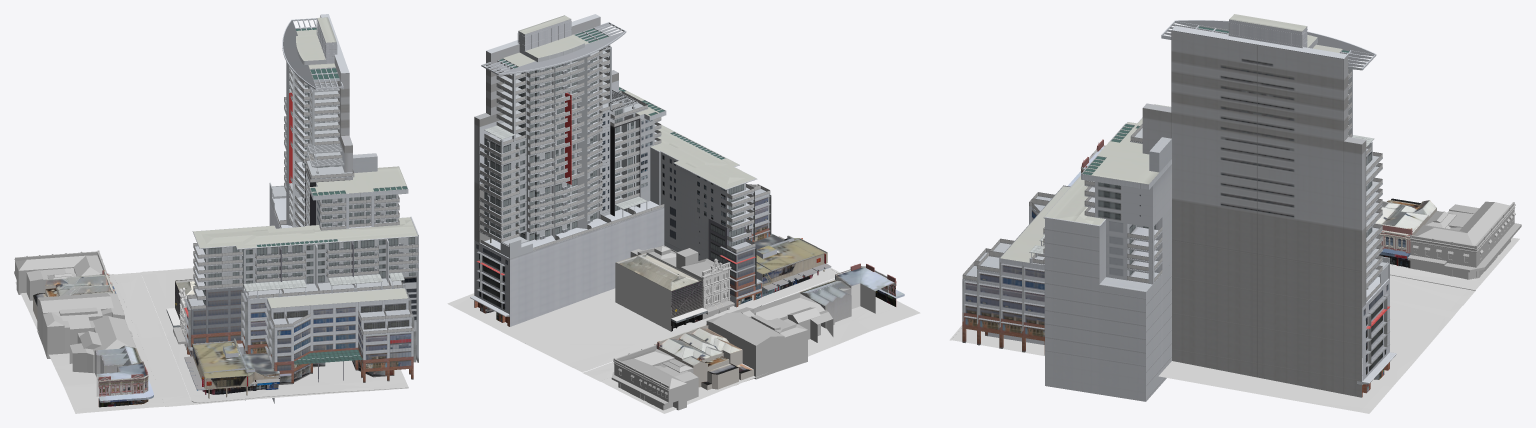
Rendered from City_Nick2.fbx.
3 renders of one model, left to right at view 1: azimuth 30°, elevation 25°; view 2: azimuth 150°, elevation 25°; view 3: azimuth 270°, elevation 25°, orthographic. The views are drawn at different scales.
Visible parts, largest first — view 1: C15_580_Hay_St_EQUUS, DGM.002, C14_77_85_Barrack_St, C15_604_Hay_St_CinemaCity, C14_95_99_Barrack_St, C14_612_Hay_St_Mall_QuinlanSwan, C14_87_93_Barrack_St, C14_69_75_Barrack_St, C15_86_90_Barrack_St, C15_78_84_Barrack_BonMarche; view 2: C15_580_Hay_St_EQUUS, DGM.002, C14_77_85_Barrack_St, C15_86_90_Barrack_St, C14_95_99_Barrack_St, C14_87_93_Barrack_St, C15_604_Hay_St_CinemaCity, C15_78_84_Barrack_BonMarche, C14_612_Hay_St_Mall_QuinlanSwan, C14_69_75_Barrack_St; view 3: C15_580_Hay_St_EQUUS, DGM.002, C14_95_99_Barrack_St, C14_87_93_Barrack_St.
Boxes of the visible parts, <box> form: C15_580_Hay_St_EQUUS: <box>184,14,418,403</box>; DGM.002: <box>15,268,408,413</box>; C14_77_85_Barrack_St: <box>37,293,141,373</box>; C15_604_Hay_St_CinemaCity: <box>184,338,280,400</box>; C14_95_99_Barrack_St: <box>14,250,107,300</box>; C14_612_Hay_St_Mall_QuinlanSwan: <box>96,361,153,407</box>; C14_87_93_Barrack_St: <box>33,270,123,320</box>; C14_69_75_Barrack_St: <box>94,345,141,376</box>; C15_86_90_Barrack_St: <box>166,279,195,327</box>; C15_78_84_Barrack_BonMarche: <box>173,287,194,350</box>; C15_580_Hay_St_EQUUS: <box>470,14,771,326</box>; DGM.002: <box>447,267,920,413</box>; C14_77_85_Barrack_St: <box>706,292,833,379</box>; C15_86_90_Barrack_St: <box>615,252,707,331</box>; C14_95_99_Barrack_St: <box>611,344,698,410</box>; C14_87_93_Barrack_St: <box>654,324,753,390</box>; C15_604_Hay_St_CinemaCity: <box>754,233,831,296</box>; C15_78_84_Barrack_BonMarche: <box>630,245,734,319</box>; C14_612_Hay_St_Mall_QuinlanSwan: <box>835,263,904,313</box>; C14_69_75_Barrack_St: <box>799,280,851,327</box>; C15_580_Hay_St_EQUUS: <box>962,14,1396,401</box>; DGM.002: <box>949,237,1519,413</box>; C14_95_99_Barrack_St: <box>1407,201,1521,279</box>; C14_87_93_Barrack_St: <box>1375,198,1436,268</box>.
Bounding box in the file's own units: 15110 × 10809 × 15151.
